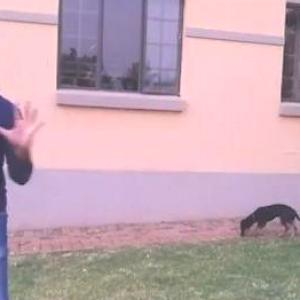follow_hand: (1, 95, 48, 150)
